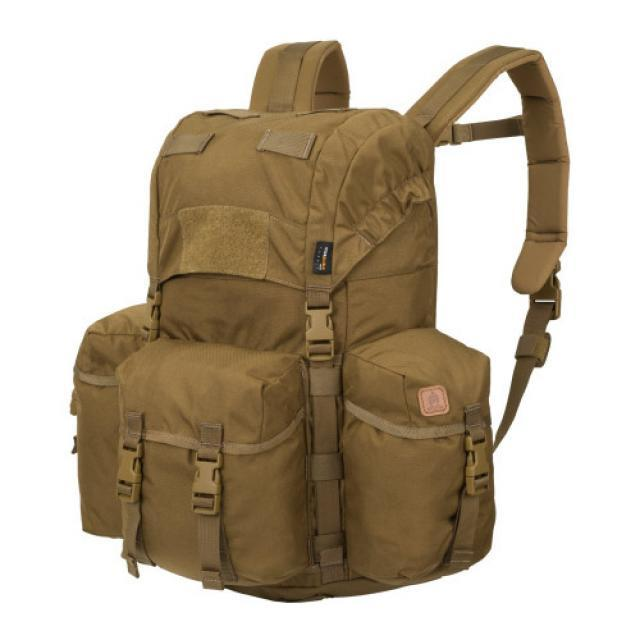Backpacks: (66, 101, 501, 604)
